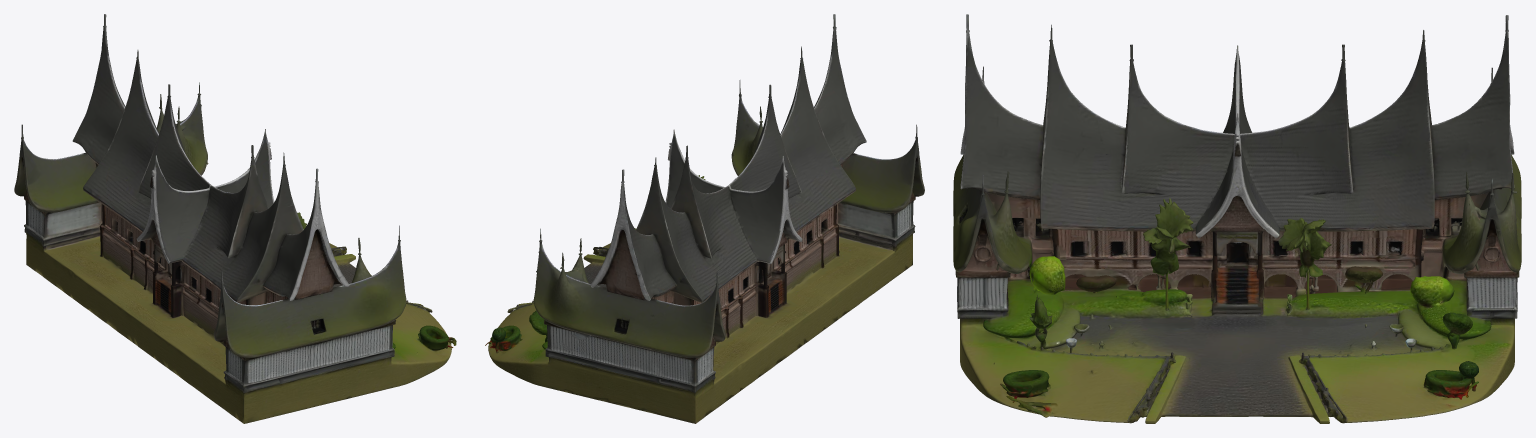
Rendered from rumah-gadang.glb.
The picture shows the model from 3 angles, left to right: view 1: azimuth 30°, elevation 25°; view 2: azimuth 150°, elevation 25°; view 3: azimuth 270°, elevation 25°; orthographic projection. The views are drawn at different scales.
Visible parts, largest first — view 1: tripo_node_eef95f11-5e88-466c-b2f8-94dae37e3dbb; view 2: tripo_node_eef95f11-5e88-466c-b2f8-94dae37e3dbb; view 3: tripo_node_eef95f11-5e88-466c-b2f8-94dae37e3dbb.
Part boxes in pixels (box(x1,y1,x2,y2)): tripo_node_eef95f11-5e88-466c-b2f8-94dae37e3dbb: box(14, 14, 456, 423); tripo_node_eef95f11-5e88-466c-b2f8-94dae37e3dbb: box(485, 14, 924, 423); tripo_node_eef95f11-5e88-466c-b2f8-94dae37e3dbb: box(953, 14, 1521, 423).
Bounding box in the file's own units: 0.6944 × 0.5818 × 1.
1 material, 1 textured.
